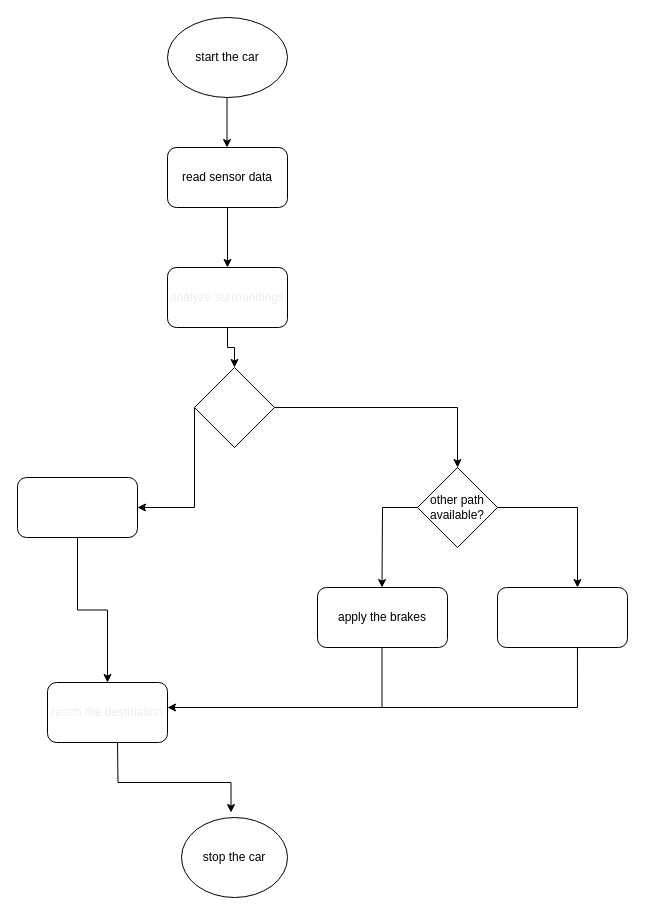
Some shapes in this 645 by 923 pixel diagram are drawn without their labels. The centre of each missing label's shape, as x and y in pixels:
go ahead: (77,507)
obstacle ahead?: (234,407)
take diversion: (562,617)
